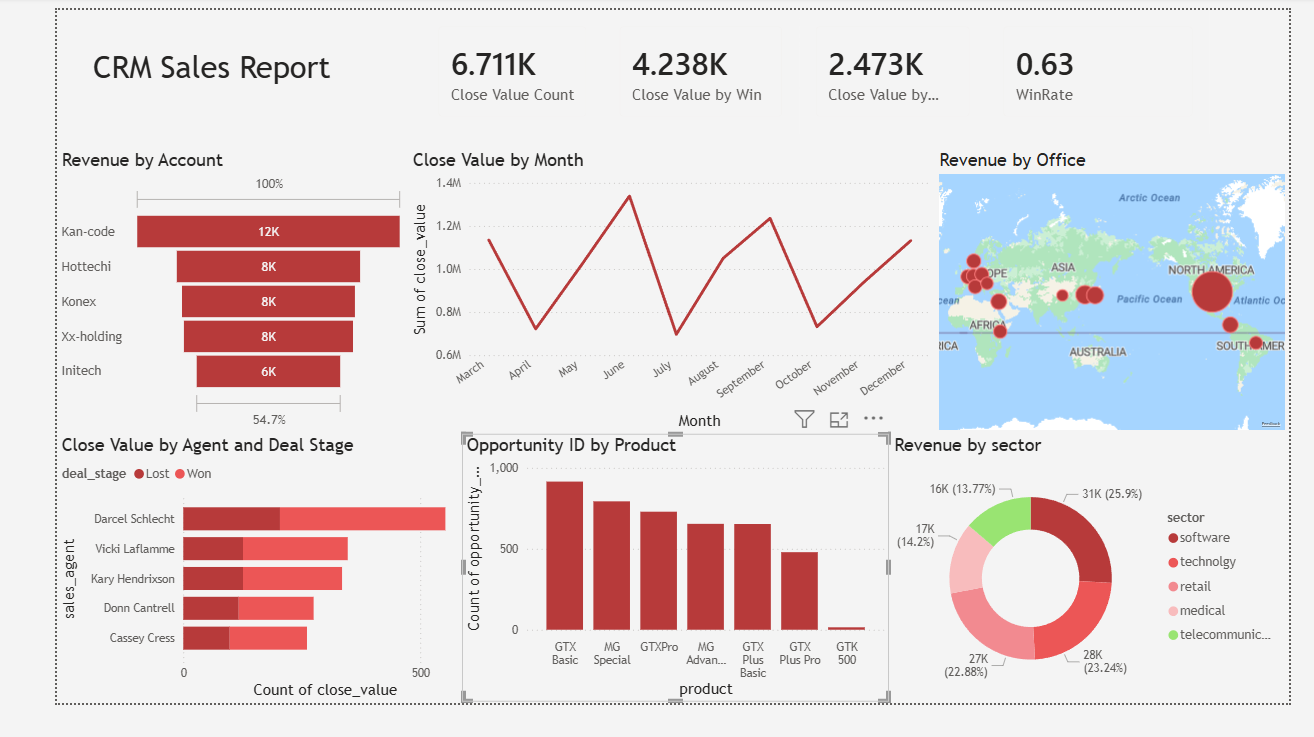

The page's visual inventory and layout, read from the dashboard file:
{"tool":"powerbi","page":{"name":"Page 1","canvas":[1280,720],"ordinal":0},"visuals":[{"type":"barChart","title":"Close Value by Agent and Deal Stage","fields":{"Category":["Sales Pipeline.sales_agent"],"Y":["CountNonNull(Sales Pipeline.close_value)"],"Series":["Sales Pipeline.deal_stage"]},"box":[0,440.5,441.9,279.9],"z":0},{"type":"lineChart","title":"Close Value by Month","fields":{"Y":["Sum(Sales Pipeline.close_value)"],"Category":["Sales Pipeline.close_date.Variation.Date Hierarchy.Month"]},"box":[364.9,144.2,546.8,296.1],"z":1000},{"type":"funnel","title":"Revenue by Account","fields":{"Category":["Accounts.account"],"Y":["Sum(Accounts.revenue)"]},"box":[0,144.2,366.2,296.1],"z":2000},{"type":"clusteredColumnChart","title":"Opportunity ID by Product","fields":{"Y":["CountNonNull(Sales Pipeline.opportunity_id)"],"Category":["Sales Pipeline.product"]},"box":[420.8,440.3,444.2,279.2],"z":3000},{"type":"donutChart","title":"Revenue by sector","fields":{"Category":["Accounts.sector"],"Y":["Sum(Accounts.revenue)"]},"box":[864.9,440.3,415.6,279.2],"z":4000},{"type":"azureMap","title":"Revenue by Office","fields":{"Category":["Accounts.office_location"],"Size":["Sum(Accounts.revenue)"]},"box":[911.7,144.2,368.8,296.1],"z":5000},{"type":"cardVisual","fields":{"Data":["CountNonNull(Sales Pipeline.close_value)"]},"box":[379.2,0,188.3,128.6],"z":5001},{"type":"cardVisual","fields":{"Data":["CountNonNull(Sales Pipeline.close_value)"]},"box":[567.5,0,203.9,128.6],"z":5002},{"type":"cardVisual","fields":{"Data":["CountNonNull(Sales Pipeline.close_value)"]},"box":[771.4,0,194.8,128.6],"z":5003},{"type":"cardVisual","fields":{"Data":["Sales Pipeline.WinRate"]},"box":[966.2,0,231.2,128.6],"z":5004},{"type":"textbox","box":[32.5,35.1,300,79.2],"z":5005}]}

Visuals, with their boxes in screenshot pixels (x1, y1, x2, y2), scaled from the page's 1280x720 canvas onto the 1314x737 screenshot:
"Close Value by Agent and Deal Stage" barChart: pyautogui.locateOnScreen(0, 451, 454, 736)
"Close Value by Month" lineChart: pyautogui.locateOnScreen(375, 148, 936, 451)
"Revenue by Account" funnel: pyautogui.locateOnScreen(0, 148, 376, 451)
"Opportunity ID by Product" clusteredColumnChart: pyautogui.locateOnScreen(432, 451, 888, 736)
"Revenue by sector" donutChart: pyautogui.locateOnScreen(888, 451, 1313, 736)
"Revenue by Office" azureMap: pyautogui.locateOnScreen(936, 148, 1313, 451)
cardVisual - CountNonNull(Sales Pipeline.close_value): pyautogui.locateOnScreen(389, 0, 583, 132)
cardVisual - CountNonNull(Sales Pipeline.close_value): pyautogui.locateOnScreen(583, 0, 792, 132)
cardVisual - CountNonNull(Sales Pipeline.close_value): pyautogui.locateOnScreen(792, 0, 992, 132)
cardVisual - Sales Pipeline.WinRate: pyautogui.locateOnScreen(992, 0, 1229, 132)
textbox: pyautogui.locateOnScreen(33, 36, 341, 117)
